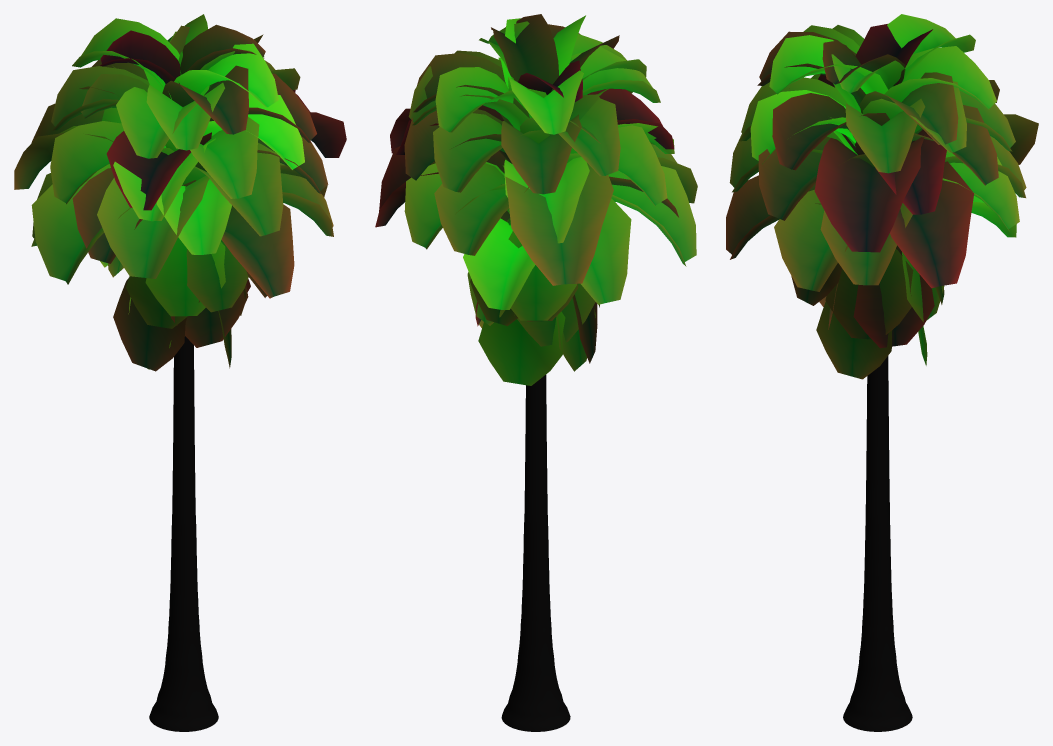
Rendered from Palm_4_1.fbx.
The picture shows the model from 3 angles, left to right: view 1: azimuth 30°, elevation 25°; view 2: azimuth 150°, elevation 25°; view 3: azimuth 270°, elevation 25°; orthographic projection.
Visible parts, largest first — view 1: Tree_1; view 2: Tree_1; view 3: Tree_1.
Part boxes in pixels (left/top/right/bottom): Tree_1: left=14, top=14, right=346, bottom=731; Tree_1: left=375, top=14, right=697, bottom=731; Tree_1: left=726, top=14, right=1038, bottom=731.
Size of the model in its own units: 709 by 1594 by 660.
